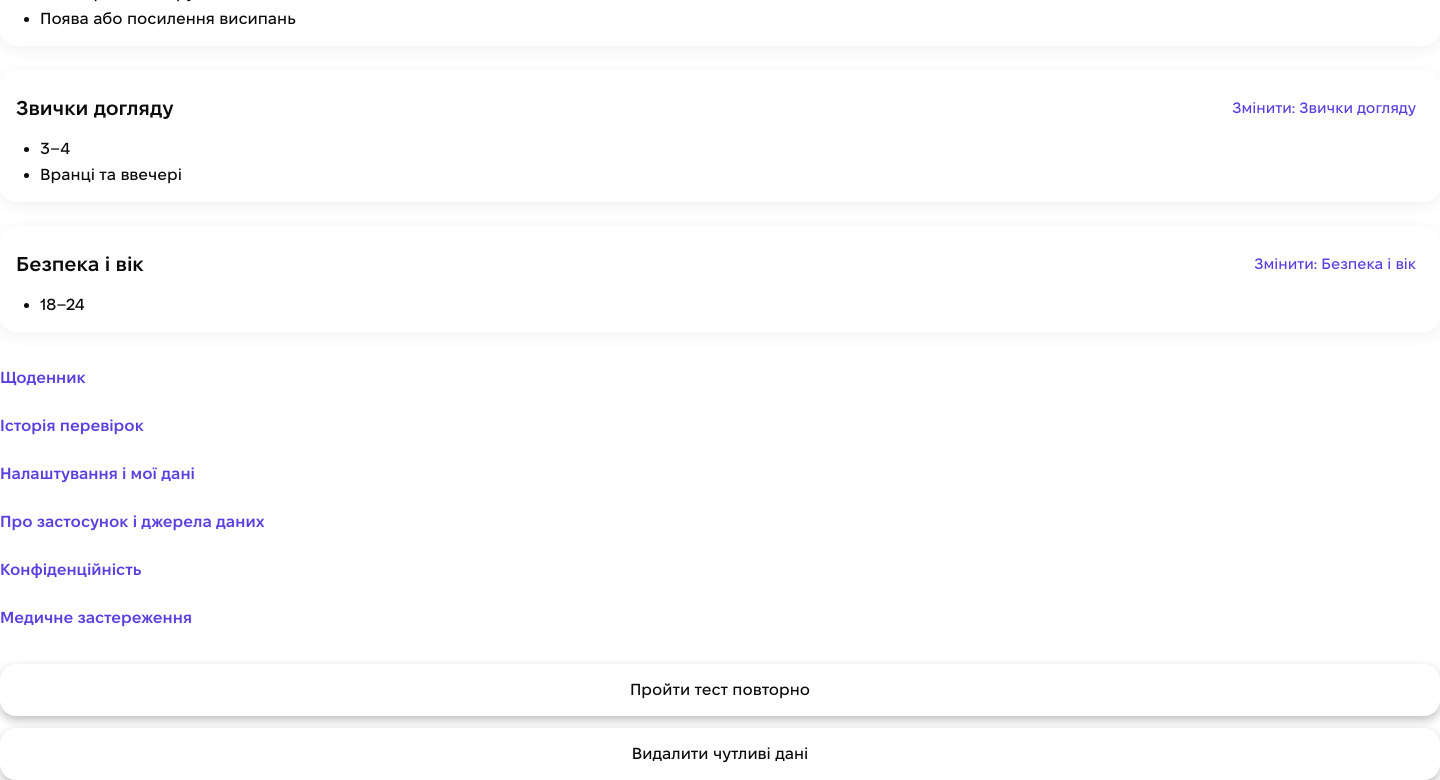
Test case: ProfilePage › "Delete sensitive data" removes sex and cycle from the profile and from the saved answers
(page scrolled)
Click the button "Видалити чутливі дані" at x=720, y=754, box 0,728 -> 1439,779
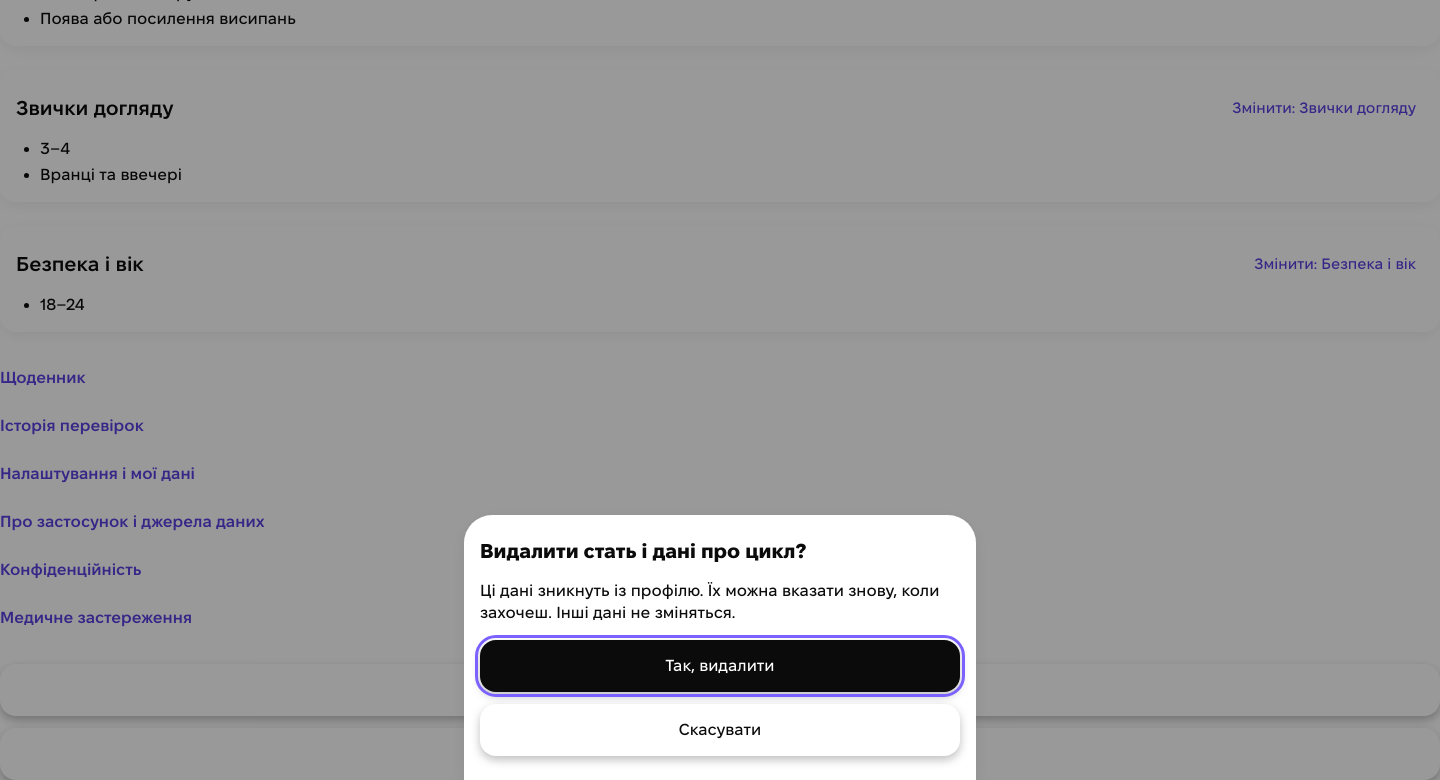
Click the button "Так, видалити" at x=720, y=666, box 480,640 -> 960,692
(page scrolled)
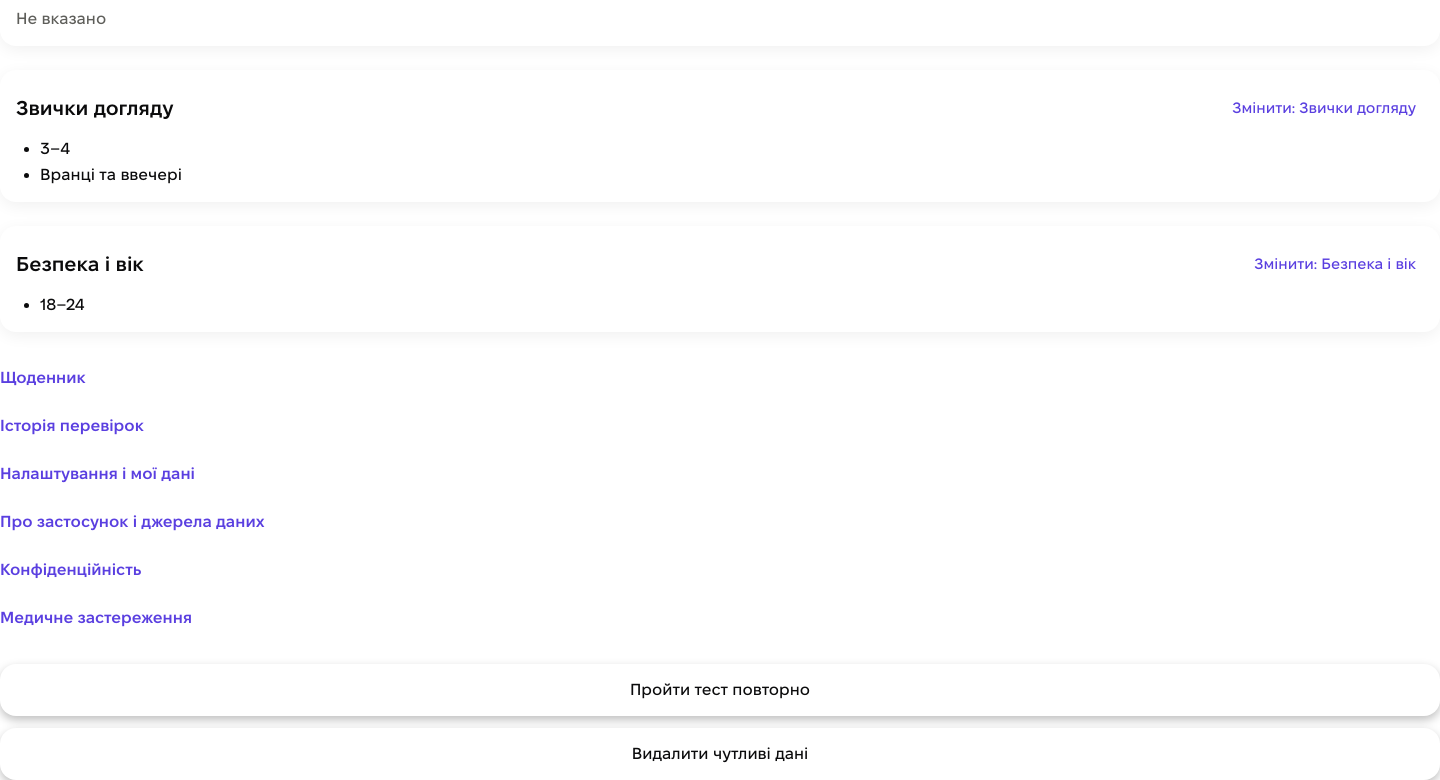
Result: the dialog is gone
